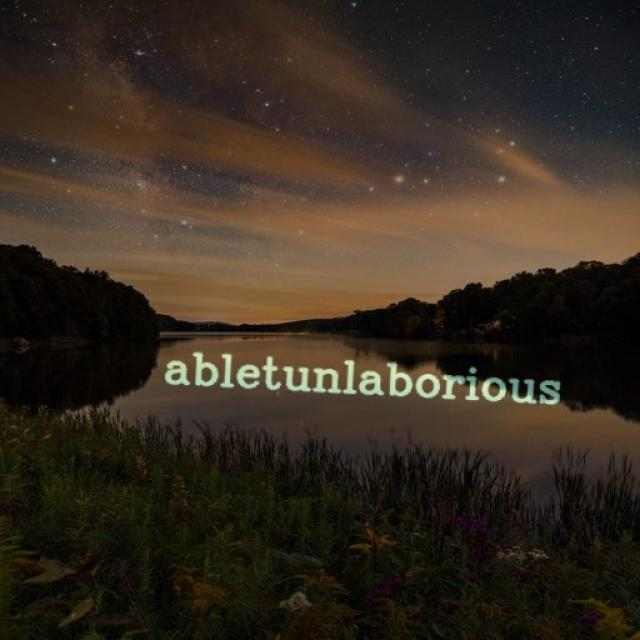watermark: (152, 350, 592, 410)
